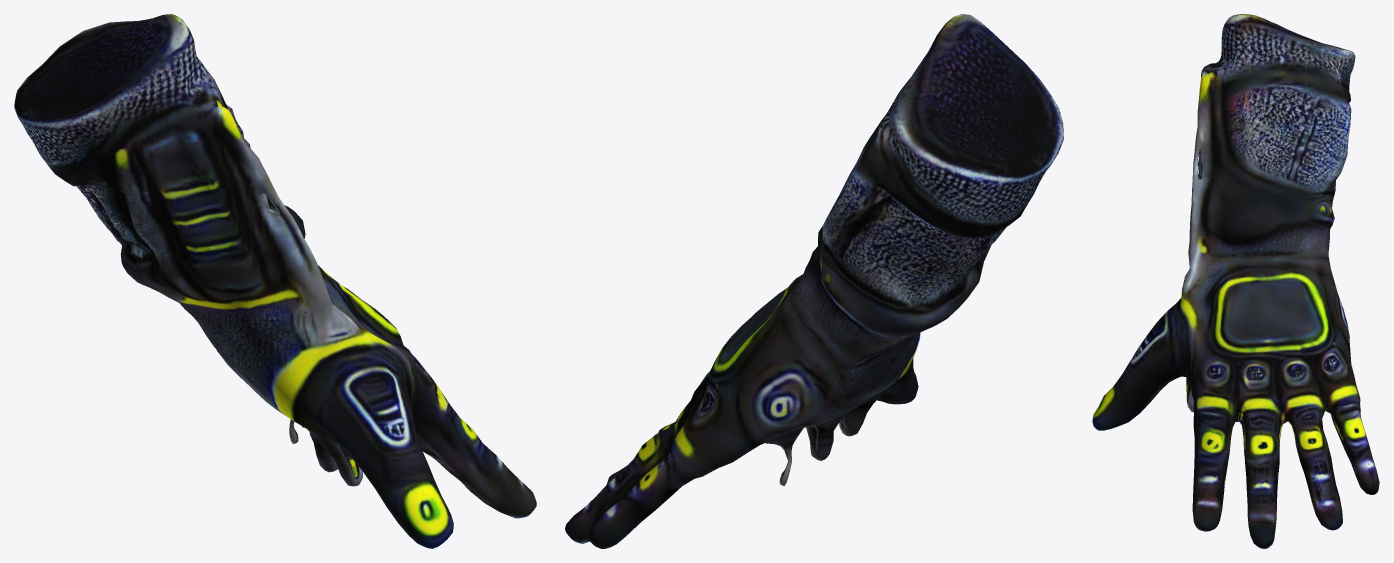
The model's file is roboglove.glb.
3 renders of one model, left to right at view 1: azimuth 30°, elevation 25°; view 2: azimuth 150°, elevation 25°; view 3: azimuth 270°, elevation 25°, orthographic. The views are drawn at different scales.
Parts seen in each view (by area): view 1: mesh; view 2: mesh; view 3: mesh.
Boxes of the visible parts, x1=… form: mesh: x1=14, y1=14, x2=536, y2=548; mesh: x1=565, y1=14, x2=1063, y2=548; mesh: x1=1092, y1=14, x2=1379, y2=548.
Size of the model in its own units: 0.8377 by 0.9985 by 0.6246.
1 material, 1 textured.
